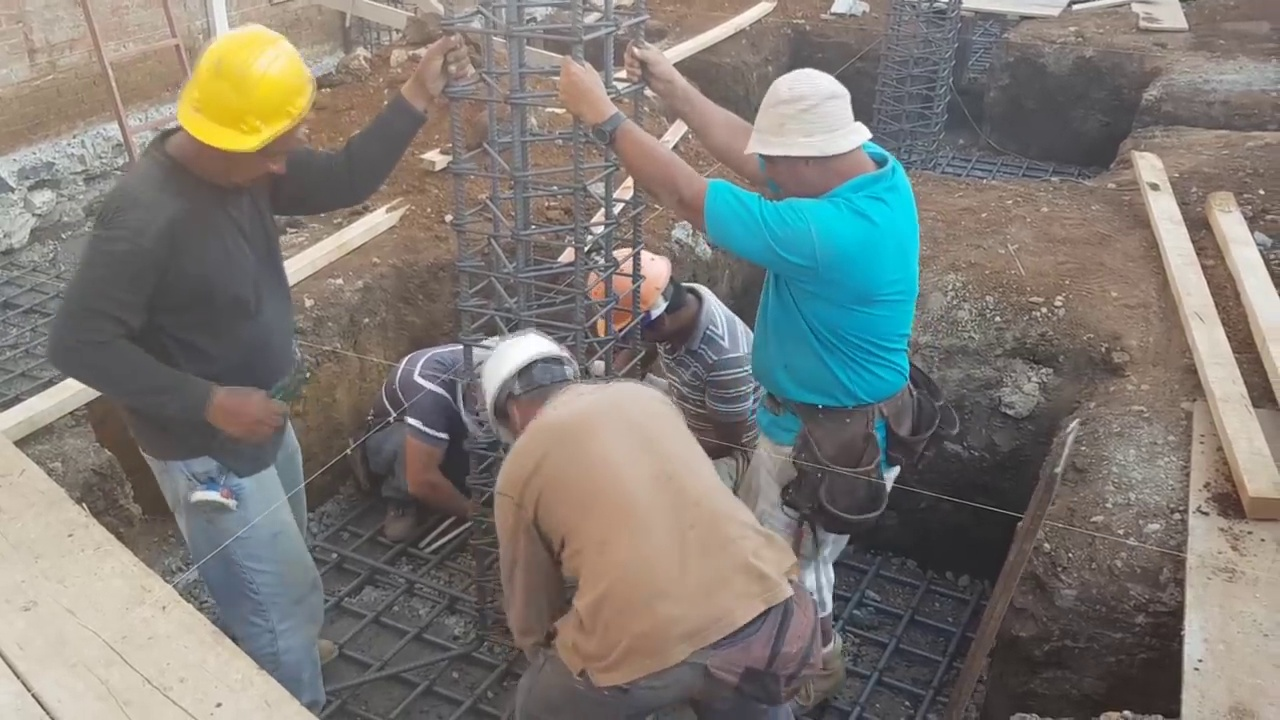helmet: (176, 24, 315, 155), (484, 332, 574, 433), (581, 247, 672, 336)
helmet-off: (737, 70, 878, 202)
helmet-on: (160, 22, 325, 197), (484, 332, 588, 459), (578, 237, 698, 342)
person: (51, 2, 469, 710), (556, 37, 928, 653), (481, 329, 820, 719), (578, 237, 763, 456), (367, 340, 489, 543)
